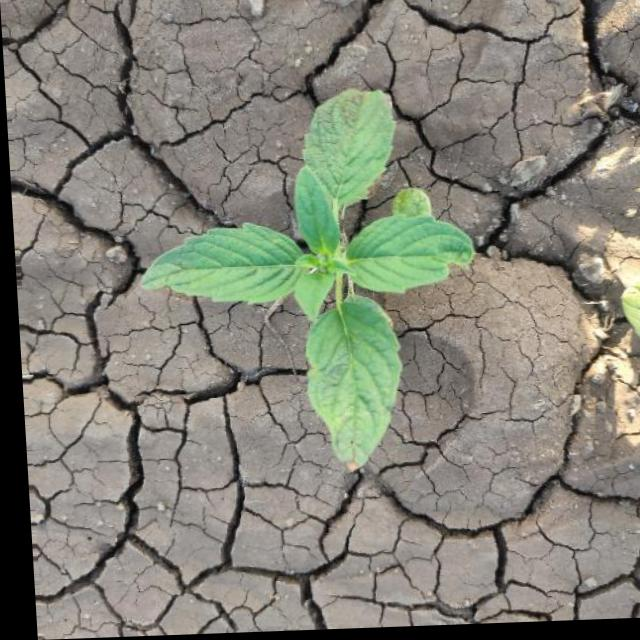crop: (128, 99, 485, 478)
